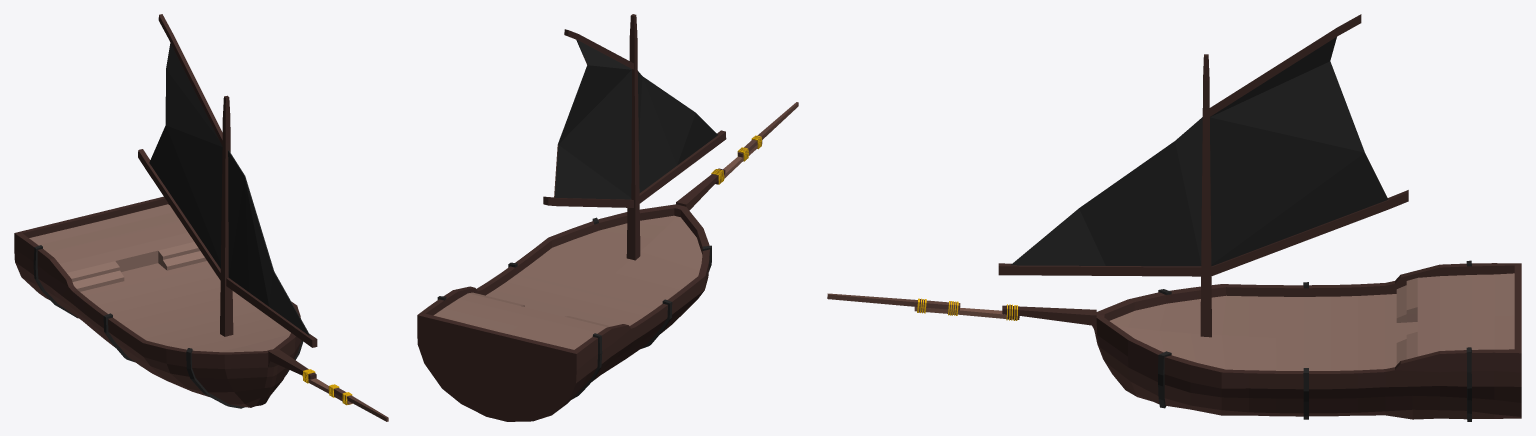
The model's file is PlayerBoat.fbx.
The picture shows the model from 3 angles, left to right: view 1: azimuth 30°, elevation 25°; view 2: azimuth 150°, elevation 25°; view 3: azimuth 270°, elevation 25°; orthographic projection. The views are drawn at different scales.
Visible parts, largest first — view 1: Boat, Sail; view 2: Boat, Sail; view 3: Boat, Sail.
Part boxes in pixels (bbox=[...]): Boat: bbox=[14, 196, 388, 421]; Sail: bbox=[138, 14, 317, 347]; Boat: bbox=[417, 102, 798, 421]; Sail: bbox=[543, 14, 726, 260]; Boat: bbox=[827, 260, 1521, 421]; Sail: bbox=[998, 14, 1408, 337].
Bounding box in the file's own units: 1024 × 2047 × 3267.
